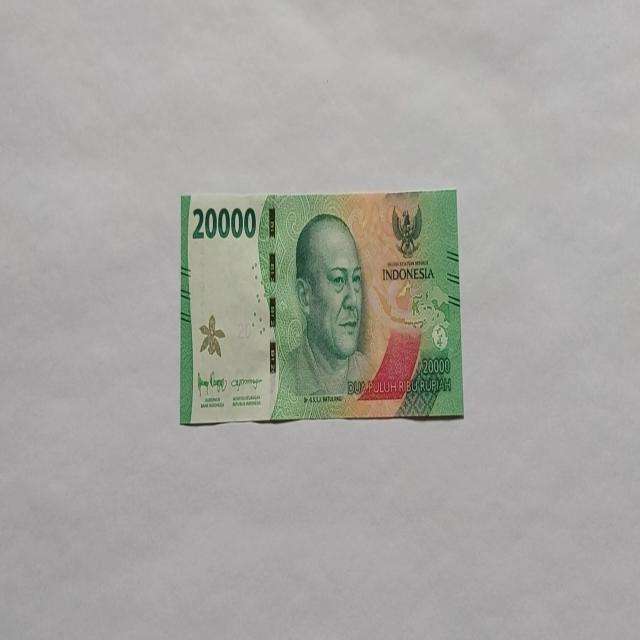dua puluh ribu rupiah: (178, 188, 464, 426), (272, 210, 377, 418)
